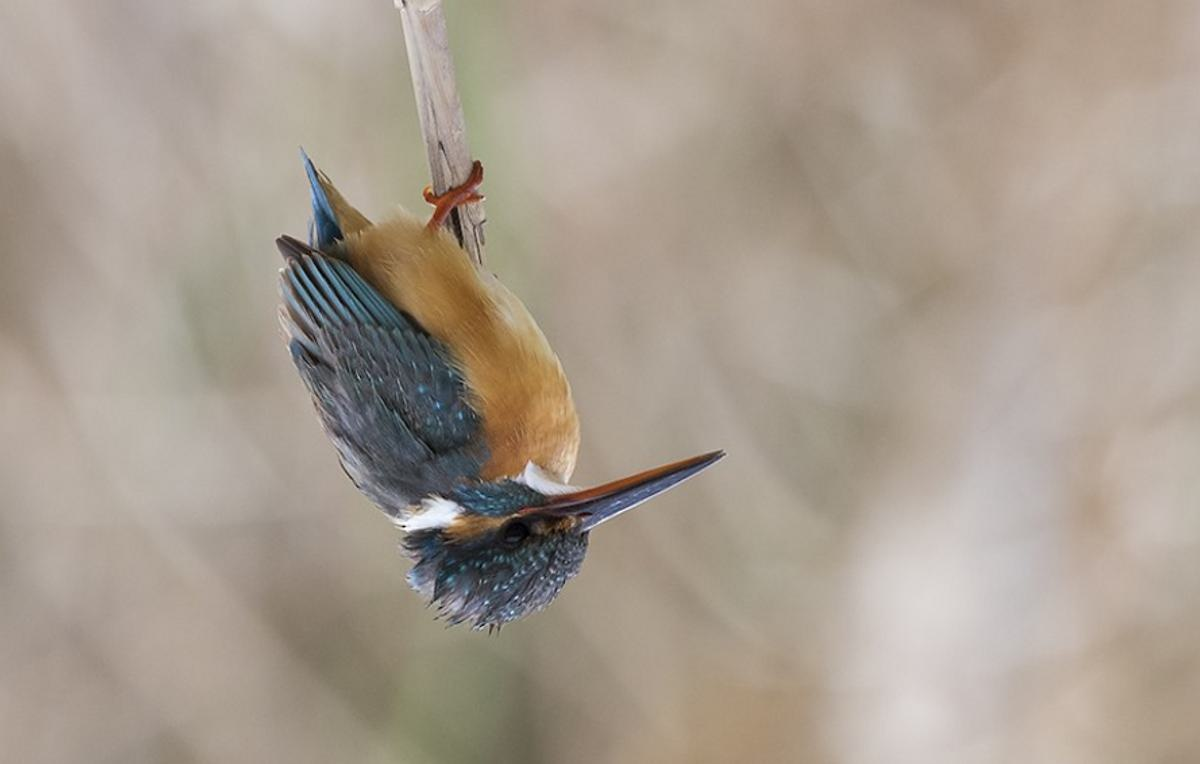kingfisher: (276, 138, 750, 635)
